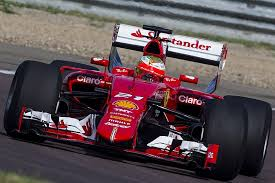f1_car: (2, 15, 273, 183)
